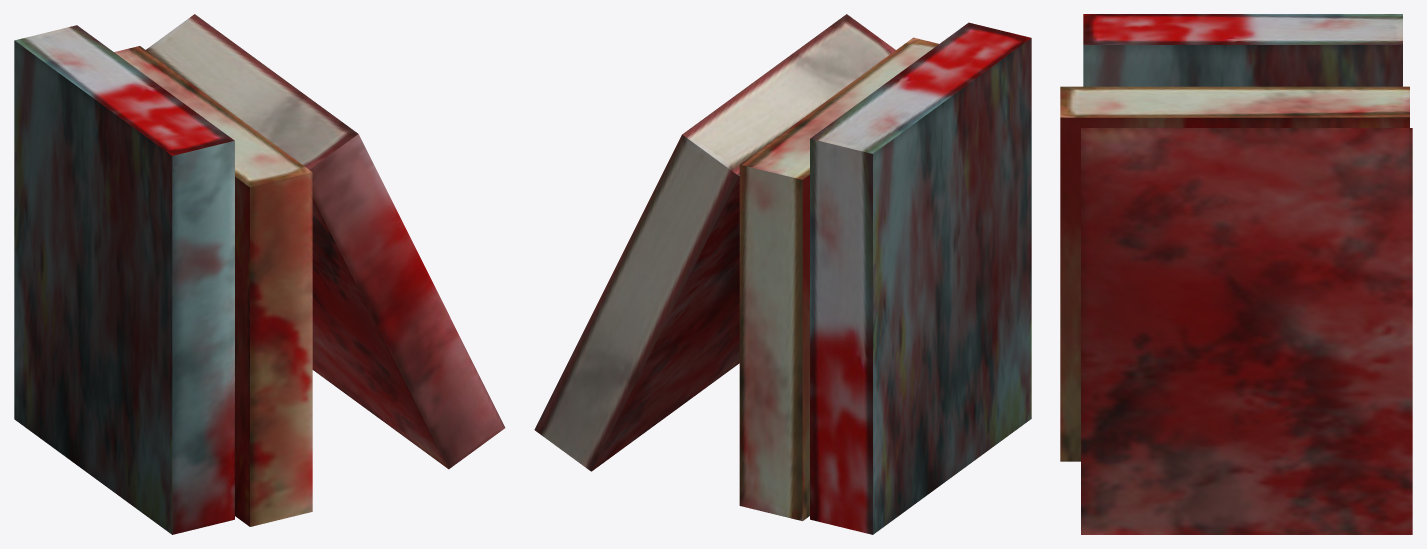
File: Books 2.FBX
3 renders of one model, left to right at view 1: azimuth 30°, elevation 25°; view 2: azimuth 150°, elevation 25°; view 3: azimuth 270°, elevation 25°, orthographic.
Visible parts, largest first — view 1: Object008; view 2: Object008; view 3: Object008.
Boxes of the visible parts, bbox=[...] form: Object008: bbox=[14, 14, 505, 534]; Object008: bbox=[534, 14, 1031, 534]; Object008: bbox=[1060, 14, 1412, 534].
Size of the model in its own units: 11.09 by 12.12 by 10.06.
1 material, 1 textured.
